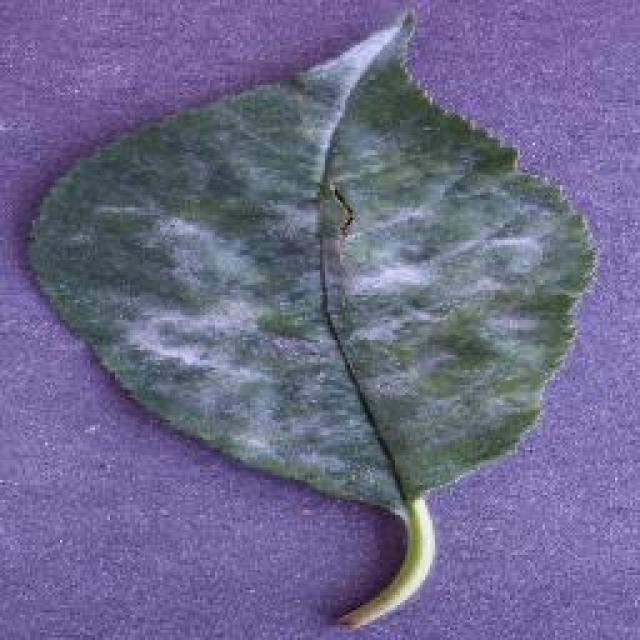Cherry___Powdery_mildew: (104, 14, 553, 424)
